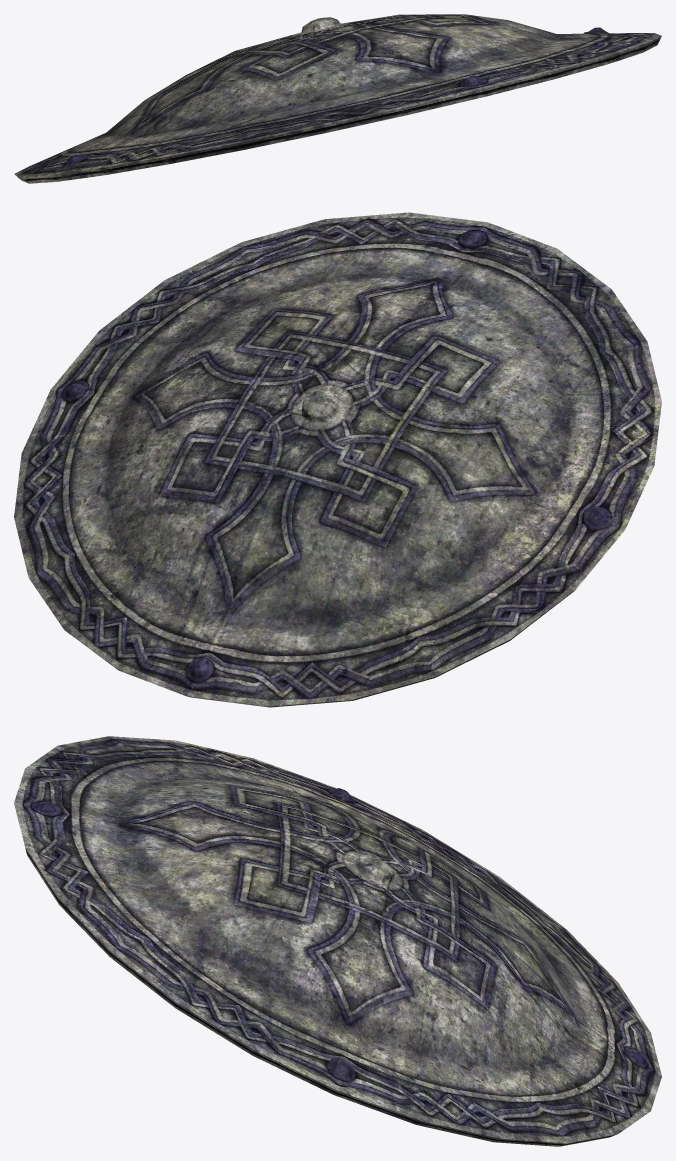
Rendered from ITSH_SHIELD_A_KORSHAN.glb.
3 views of the same model, one above another, from view 1: azimuth 30°, elevation 25°; view 2: azimuth 150°, elevation 25°; view 3: azimuth 270°, elevation 25° (orthographic). The views are drawn at different scales.
Visible parts, largest first — view 1: ITSH_SHIELD_A_KORSHAN; view 2: ITSH_SHIELD_A_KORSHAN; view 3: ITSH_SHIELD_A_KORSHAN.
Part boxes in pixels (box(x1,y1,x2,y2)): ITSH_SHIELD_A_KORSHAN: box(14, 14, 661, 183); ITSH_SHIELD_A_KORSHAN: box(14, 212, 661, 707); ITSH_SHIELD_A_KORSHAN: box(14, 736, 661, 1146).
Size of the model in its own units: 0.7704 by 0.3315 by 0.6983.
1 material, 1 textured.
